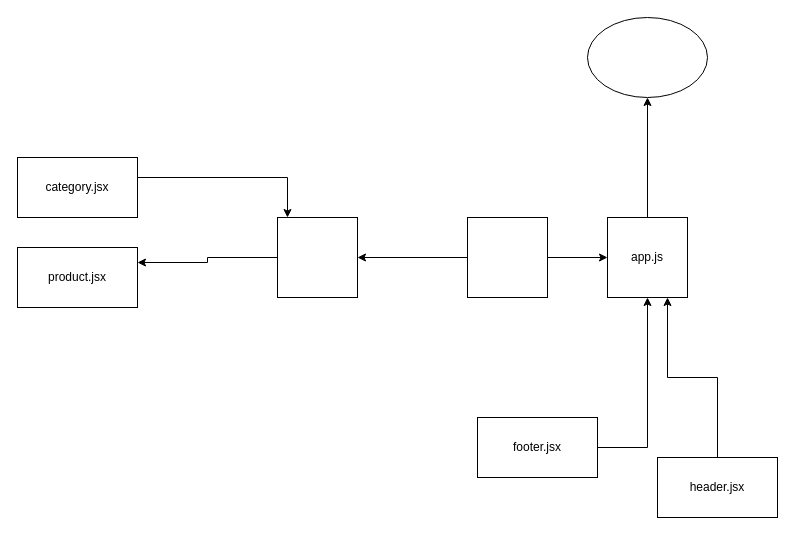
Some shapes in this 795 by 535 pixel diagram are drawn without their labels. Each missing label, with the box of its shape:
categories.js: (276, 216, 358, 298)
index.js: (466, 216, 548, 298)
UI: (586, 16, 708, 98)
